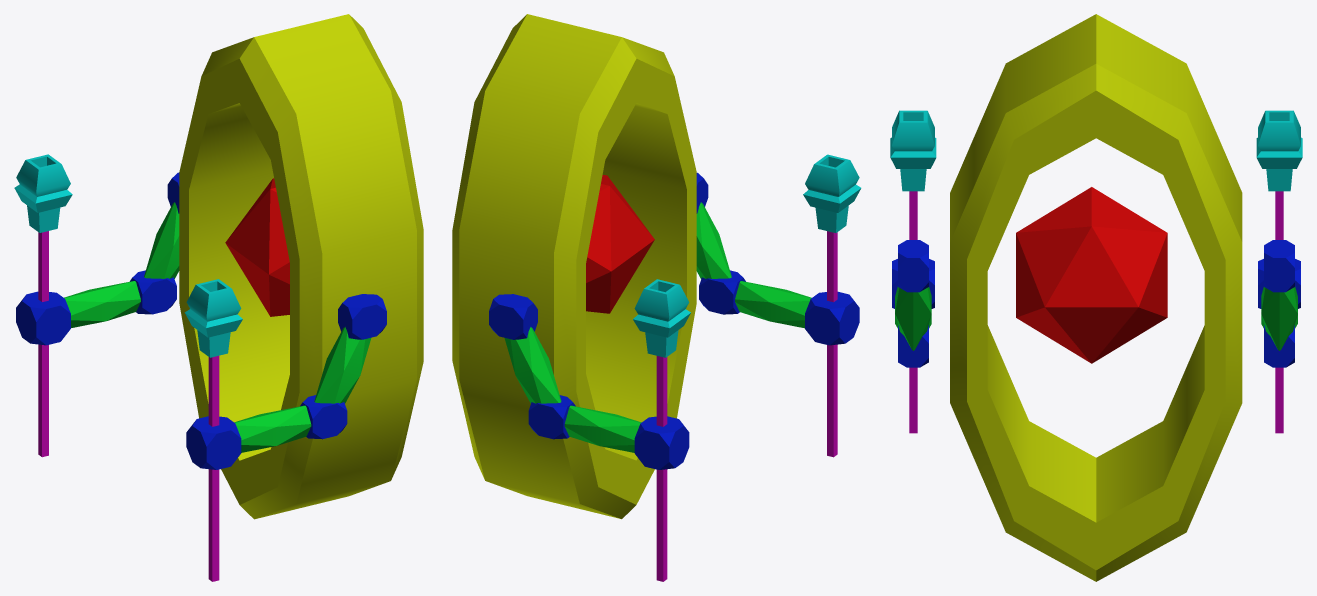
Rendered from random stuff.fbx.
3 views of the same model, side by side, from view 1: azimuth 30°, elevation 25°; view 2: azimuth 150°, elevation 25°; view 3: azimuth 270°, elevation 25° (orthographic). The views are drawn at different scales.
Visible parts, largest first — view 1: Tube, Pyramid, Platonic, Pyramid_2, Platonic_1, Platonic_2, Cube_2, Platonic_3, Cube_3, Cube, Platonic_1_2, Cube_1_3 (+1 smaller); view 2: Tube, Platonic, Pyramid_2, Pyramid, Platonic_1_2, Platonic_3, Cube_3, Platonic_2, Cube_2, Cube_1_2, Platonic_1, Cube_1_3 (+1 smaller); view 3: Tube, Platonic, Pyramid, Pyramid_2, Platonic_1, Platonic_1_2, Cube, Cube_1_2, Cube_1, Cube_1_3.
Boxes of the visible parts, x1,y1,x2,y2 form: Tube: (179,14,423,519); Pyramid: (184,279,242,581); Platonic: (225,178,289,316); Pyramid_2: (14,154,72,457); Platonic_1: (314,327,371,403); Platonic_2: (234,405,311,452); Cube_2: (186,416,241,469); Platonic_3: (64,281,140,327); Cube_3: (16,291,70,345); Cube: (338,294,386,339); Platonic_1_2: (144,202,179,278); Cube_1_3: (130,270,176,314); Tube: (452,14,696,519); Platonic: (586,175,654,313); Pyramid_2: (633,279,690,581); Pyramid: (803,154,861,457); Platonic_1_2: (504,327,561,403); Platonic_3: (564,405,641,452); Cube_3: (634,416,689,469); Platonic_2: (735,281,811,328); Cube_2: (805,291,859,345); Cube_1_2: (489,294,537,339); Platonic_1: (696,202,731,278); Cube_1_3: (528,395,575,439); Tube: (950,14,1242,581); Platonic: (1016,187,1167,363); Pyramid: (890,110,936,433); Pyramid_2: (1256,110,1302,433); Platonic_1: (895,286,931,350); Platonic_1_2: (1261,286,1297,350); Cube: (898,240,928,292); Cube_1_2: (1264,240,1294,292); Cube_1: (898,325,928,367); Cube_1_3: (1264,325,1294,367).
Bounding box in the file's own units: 1479 × 2652 × 1911.
